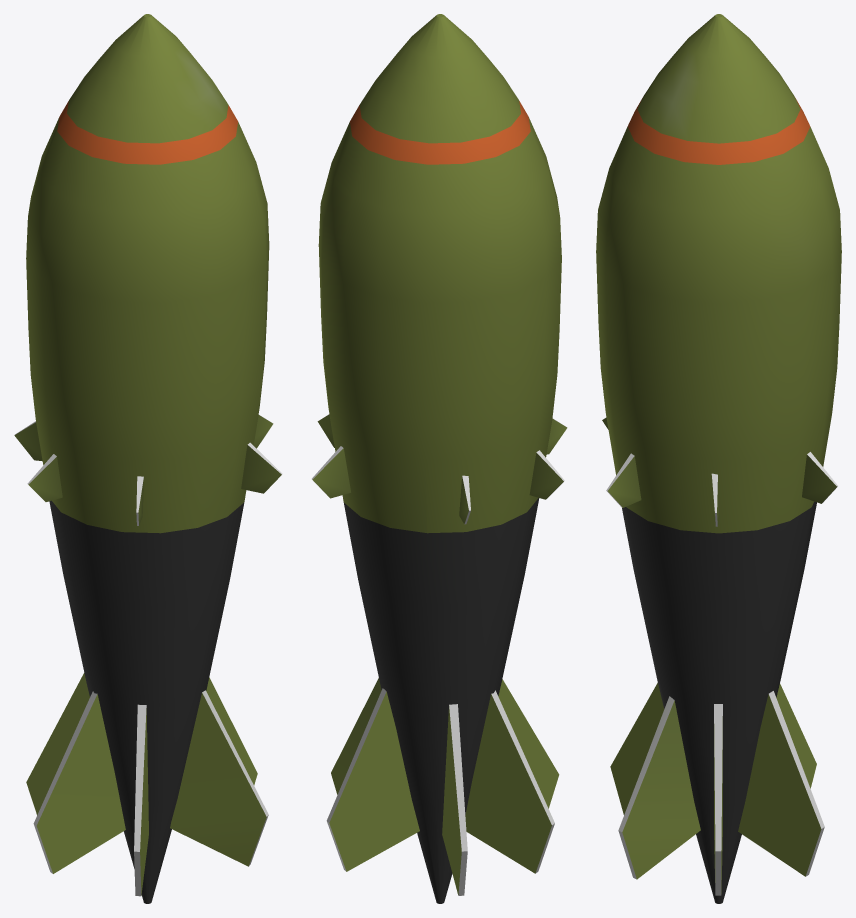
File: MisselGrande.fbx
3 views of the same model, side by side, from view 1: azimuth 30°, elevation 25°; view 2: azimuth 150°, elevation 25°; view 3: azimuth 270°, elevation 25° (orthographic).
Visible parts, largest first — view 1: MisselGrande; view 2: MisselGrande; view 3: MisselGrande.
Part boxes in pixels (bbox=[...]): MisselGrande: bbox=[14, 14, 282, 903]; MisselGrande: bbox=[312, 14, 567, 903]; MisselGrande: bbox=[596, 14, 841, 903].
Bounding box in the file's own units: 140 × 483 × 121.
